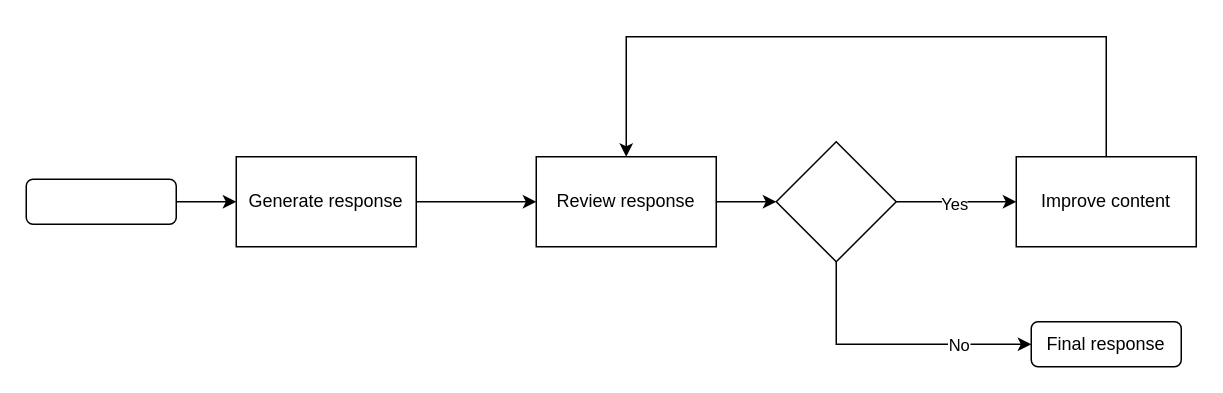
This 1223x393 diagram has some shape labels left out. The shapes that lost their labels are listed below. From the top down, each one's box as (x1, y1, x2, y2) in pixels, then its label:
(25, 178, 176, 224): Input
(775, 140, 896, 262): can improve?
